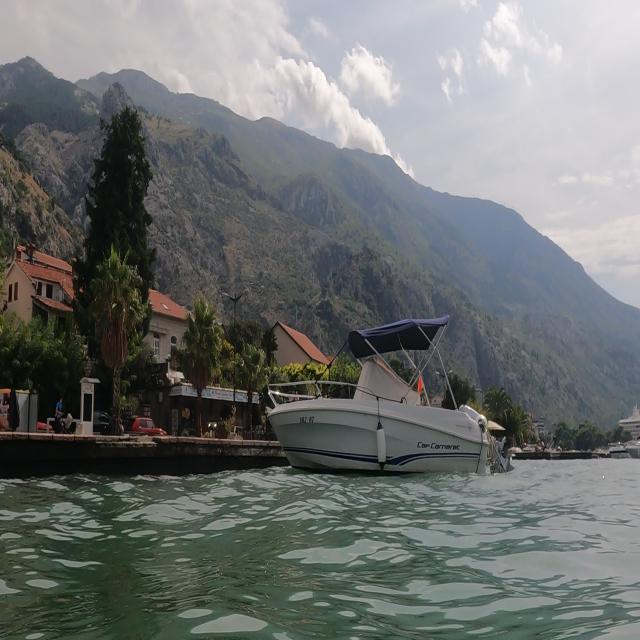boat: (264, 311, 512, 480)
